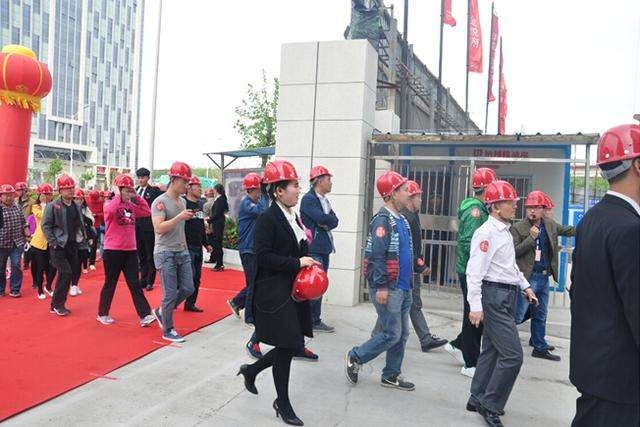none: (134, 166, 153, 188)
red: (593, 122, 640, 199), (261, 157, 302, 209), (482, 179, 518, 223), (373, 170, 409, 212), (522, 189, 550, 225), (167, 159, 191, 196), (468, 165, 495, 197), (307, 165, 334, 196), (240, 169, 263, 200), (113, 174, 135, 203), (56, 173, 78, 202), (404, 178, 422, 213), (184, 173, 205, 201), (1, 181, 16, 209), (36, 184, 54, 205), (14, 179, 30, 199)
